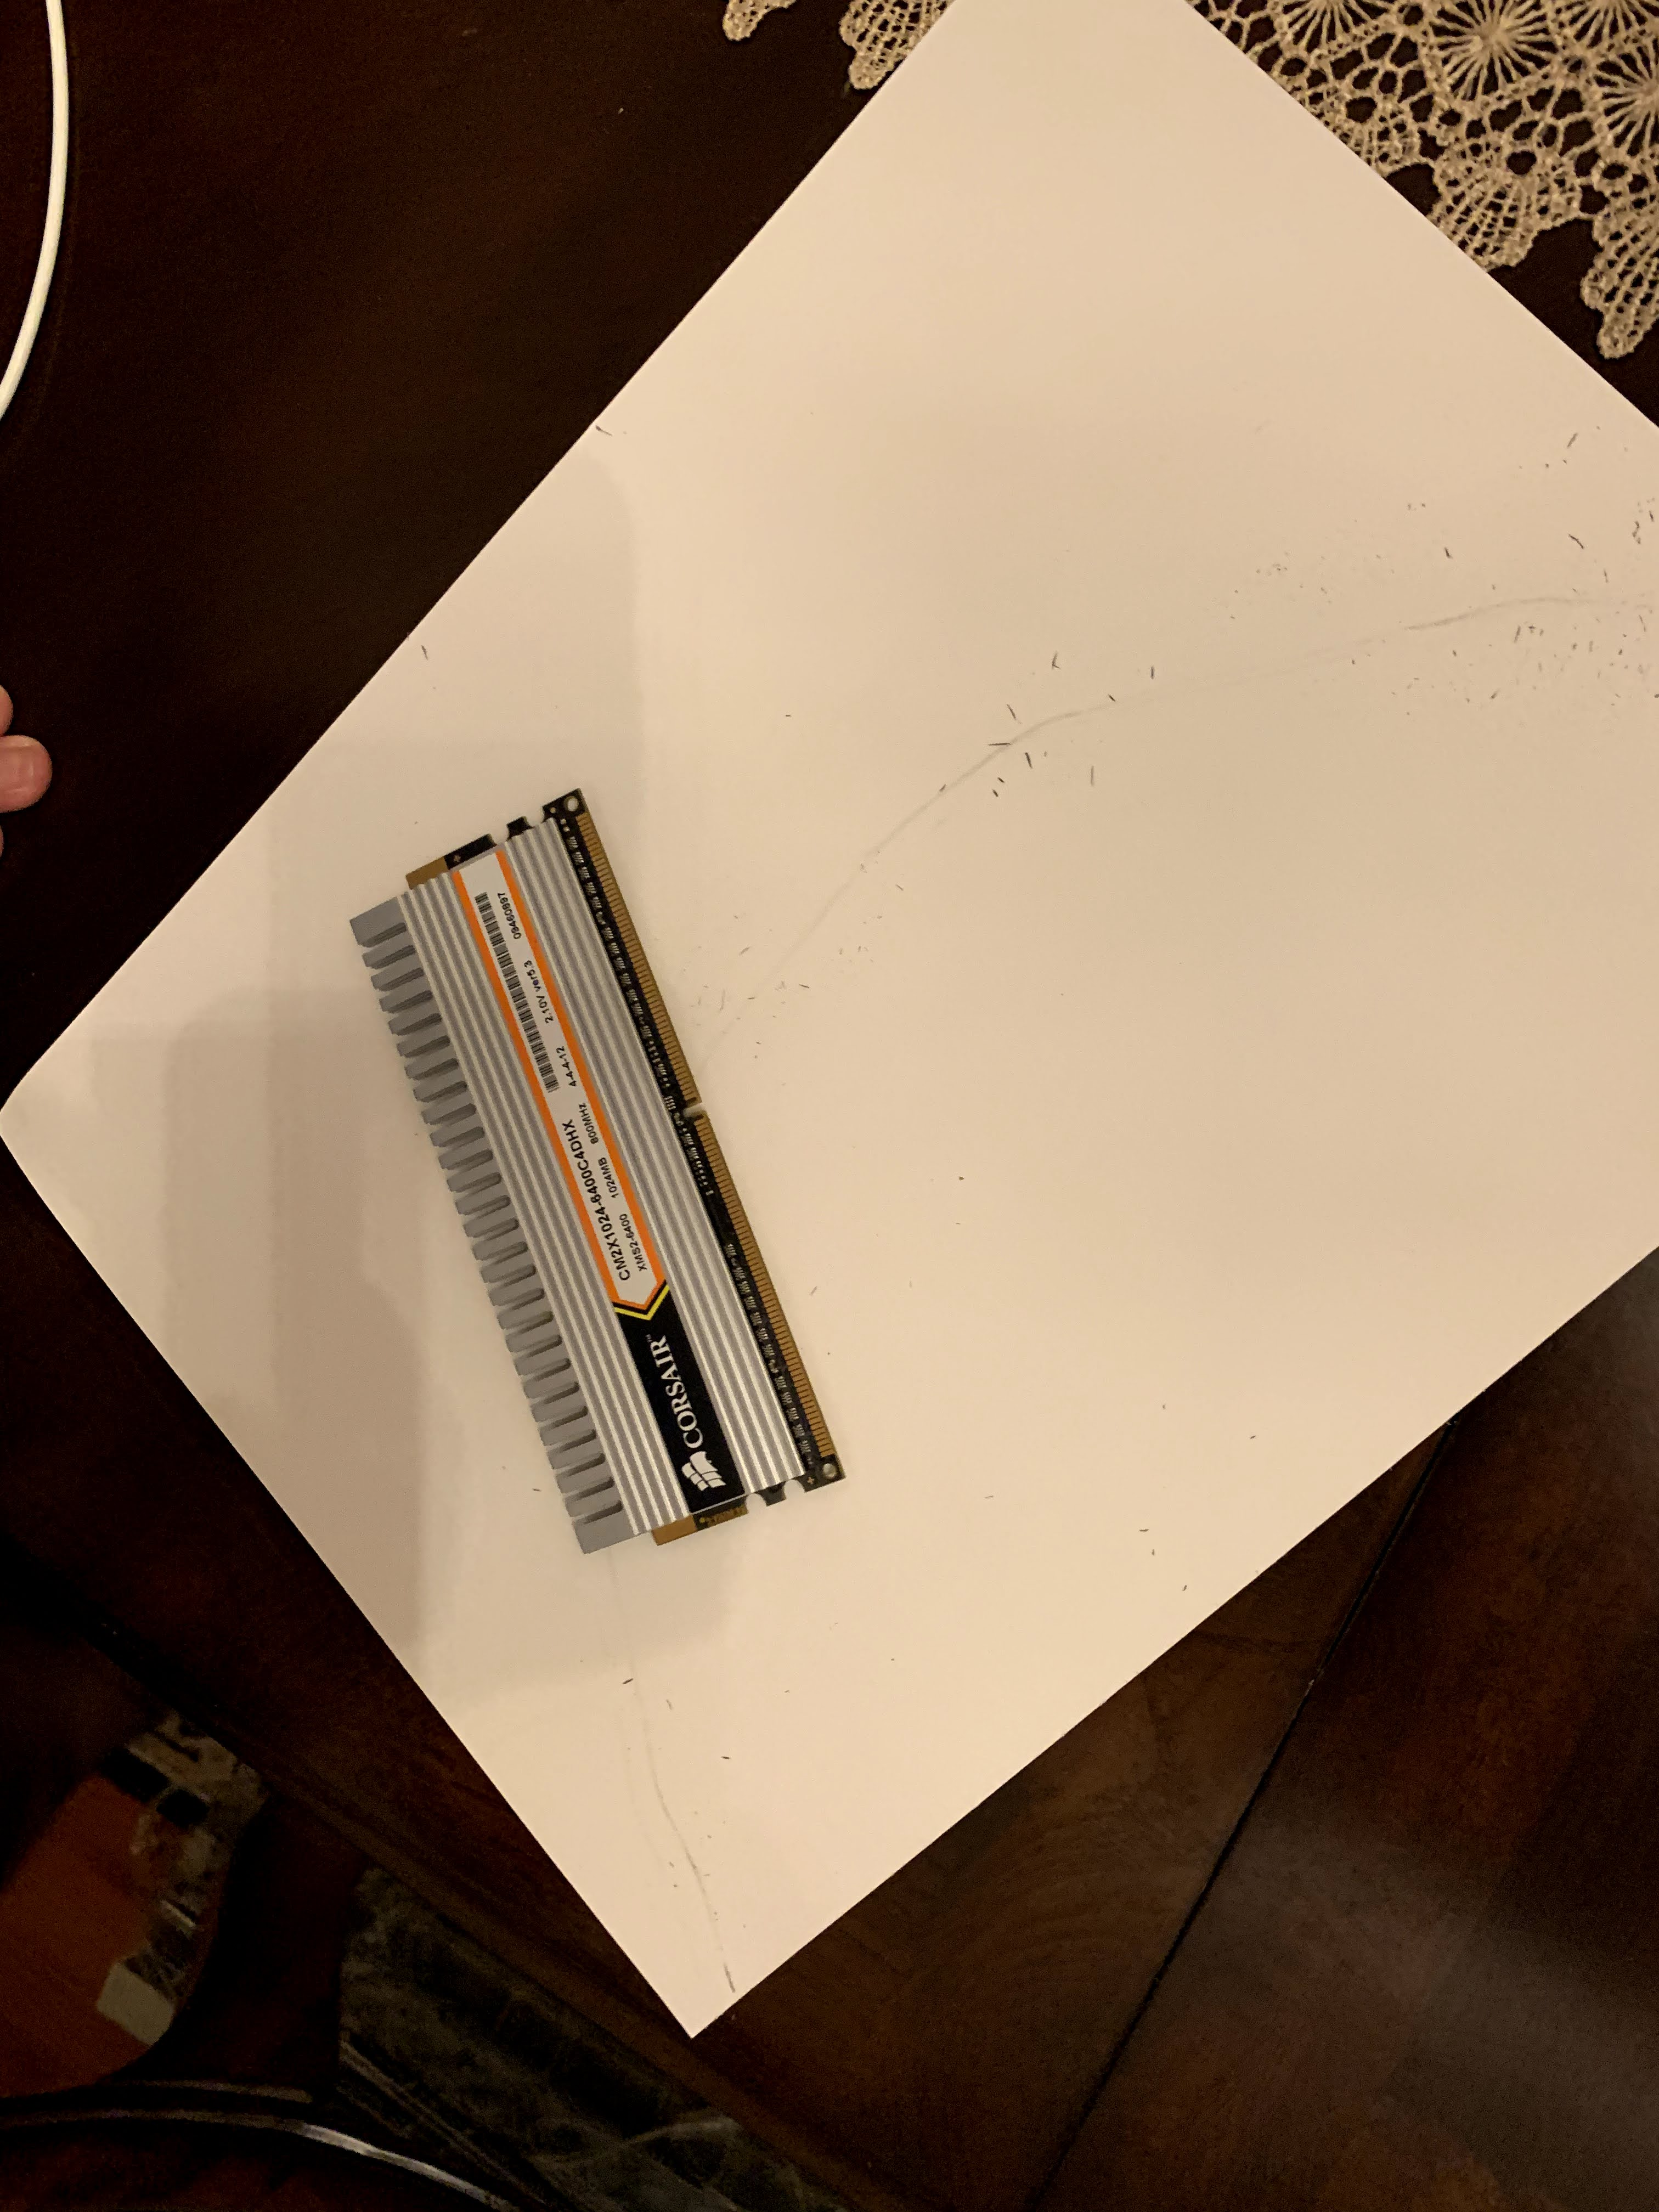Space-debris-medium: (329, 782, 894, 1569)
